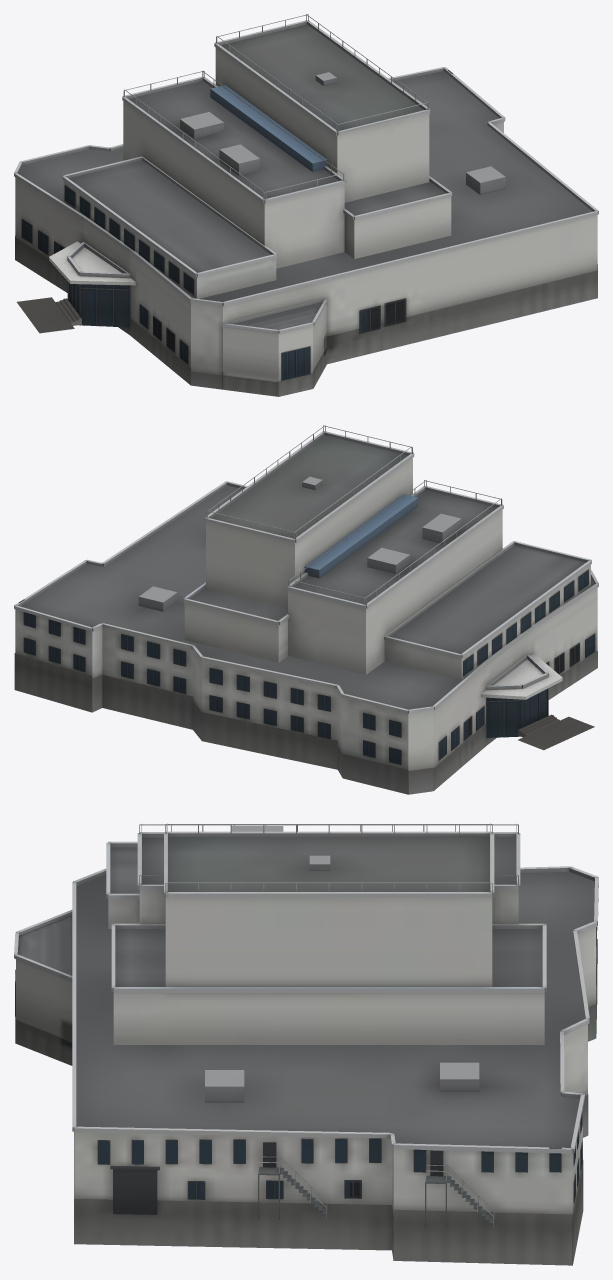
The model's file is kultura.glb.
3 views of the same model, one above another, from view 1: azimuth 30°, elevation 25°; view 2: azimuth 150°, elevation 25°; view 3: azimuth 270°, elevation 25° (orthographic). The views are drawn at different scales.
Parts seen in each view (by area): view 1: building; view 2: building; view 3: building.
Part boxes in pixels (x1,y1,x2,y2): building: [14, 14, 598, 396]; building: [14, 425, 598, 794]; building: [14, 823, 598, 1265].
Size of the model in its own units: 60.25 by 23.03 by 44.78.
2 materials, 2 textured.
